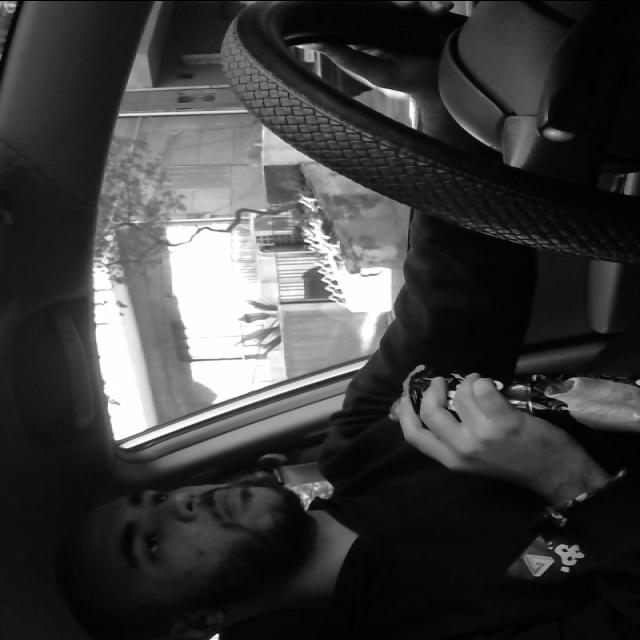eating: (382, 361, 640, 436)
